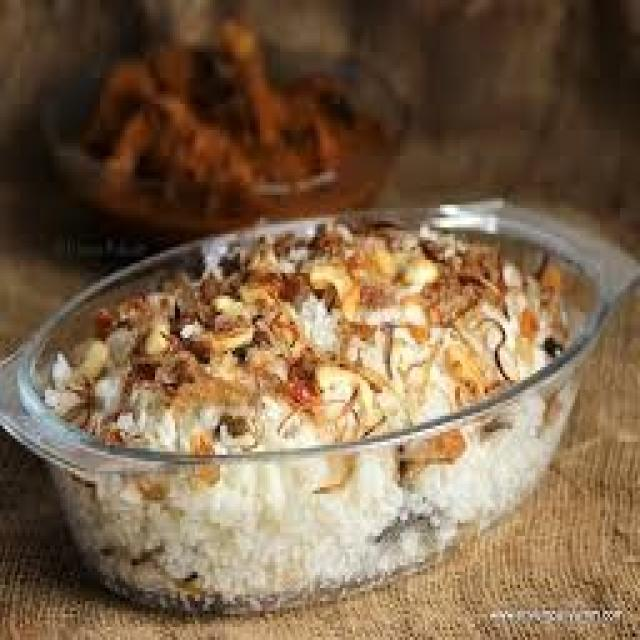nei satham: (40, 183, 588, 503)
